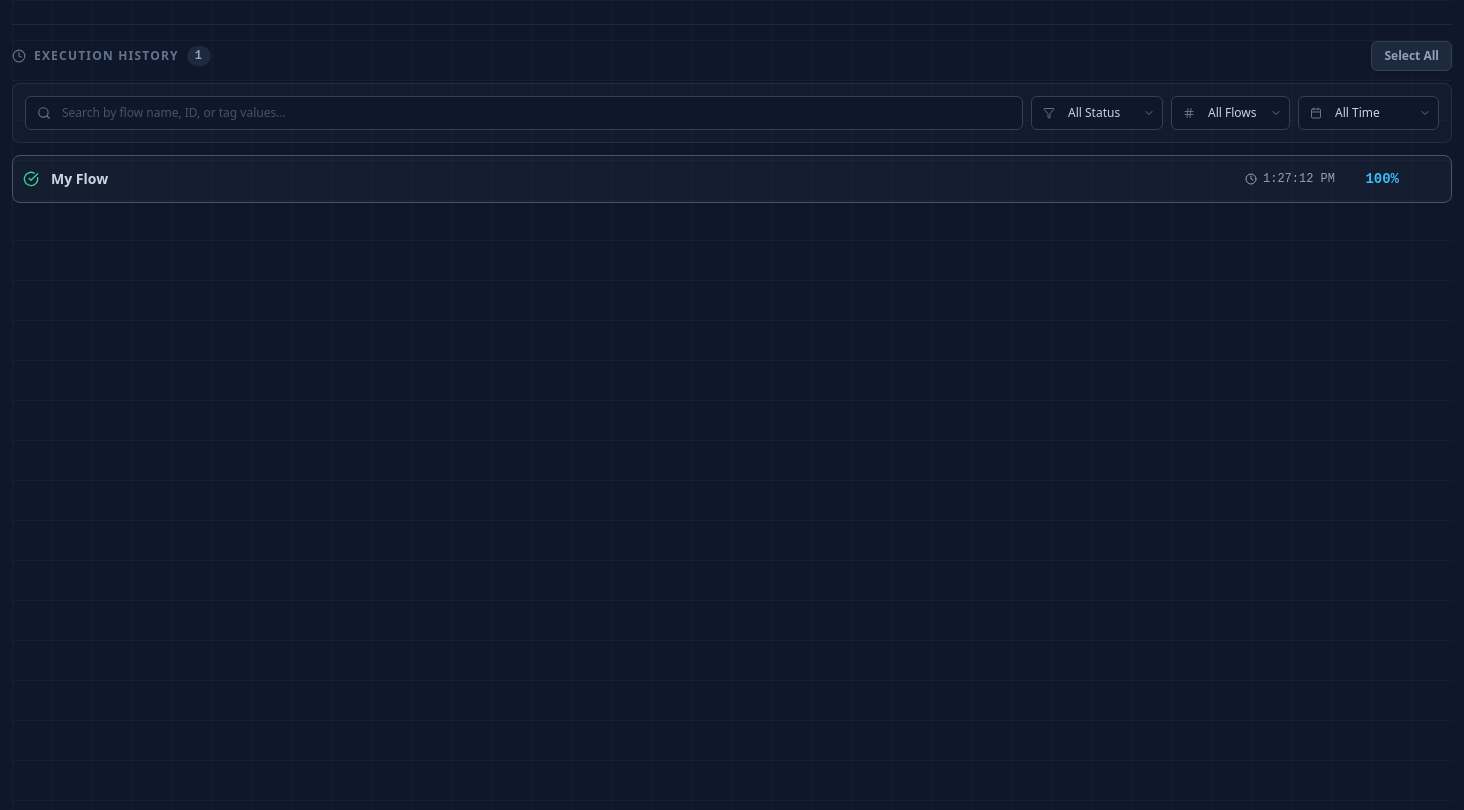
Test: HistoryPanel › clicking a run row expands its details
The width and height of the screenshot is (1464, 810).
What coordinates should you click on to do the following:
click the text titled "My Flow"
I would click on:
 (80, 179)
Its box is [51, 169, 108, 189].
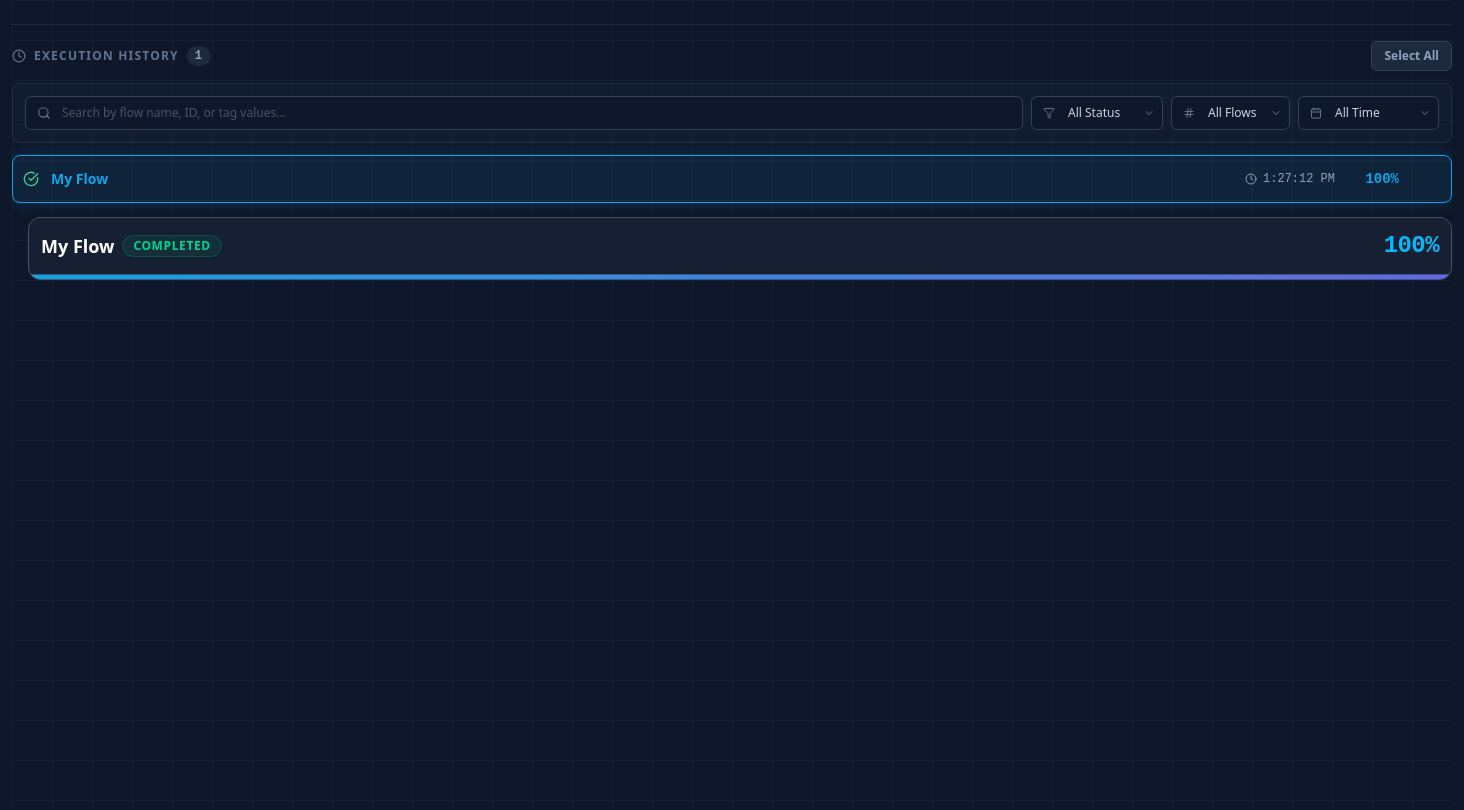
Check: the element with class "overflow-hidden" showing "My Flow COMPLETED 100%" is shown, box [28, 209, 1452, 280]
